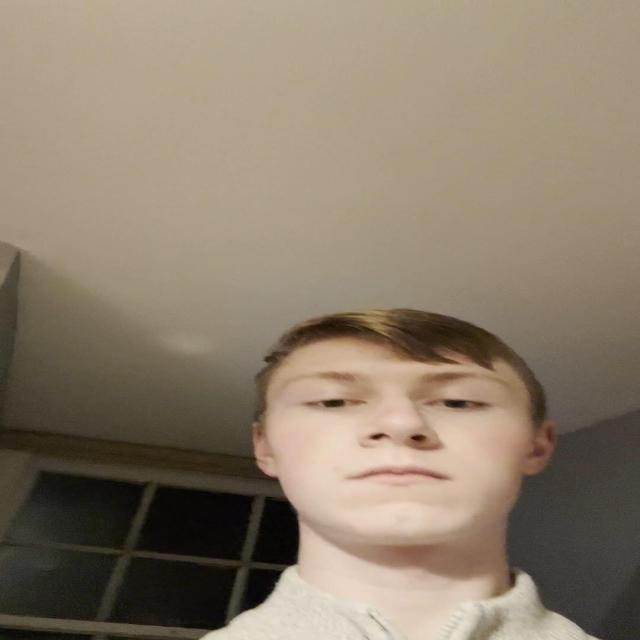no-helmet: (250, 294, 557, 570)
